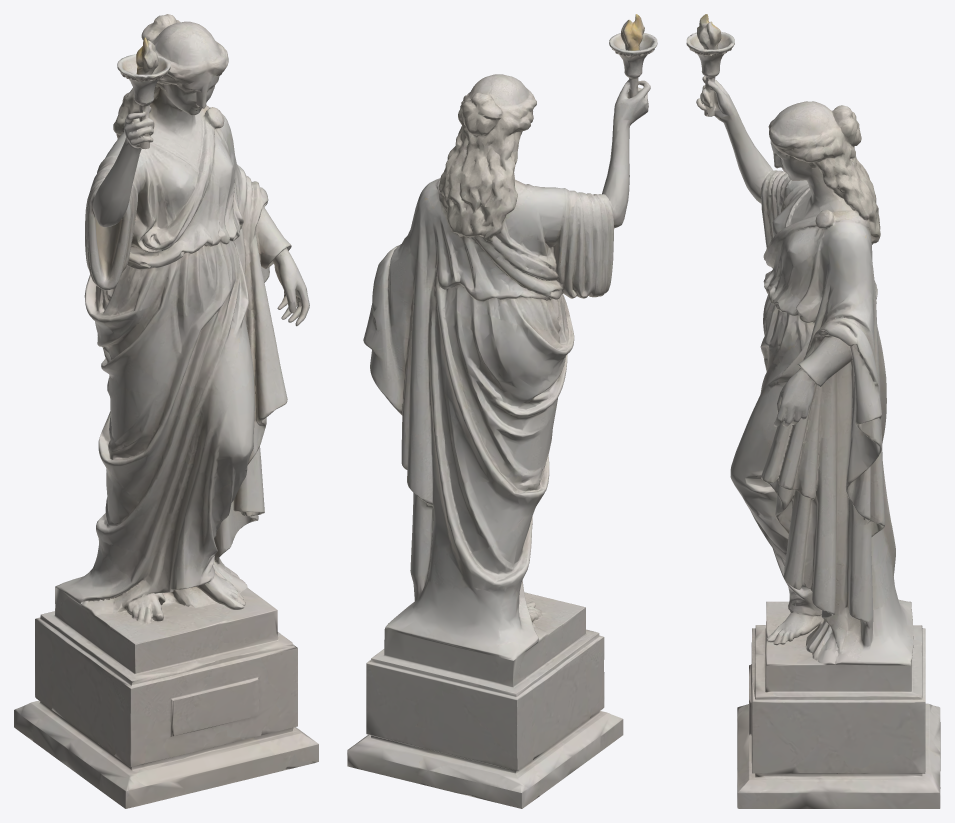
Rendered from marble-statue.glb.
The picture shows the model from 3 angles, left to right: view 1: azimuth 30°, elevation 25°; view 2: azimuth 150°, elevation 25°; view 3: azimuth 270°, elevation 25°; orthographic projection. The views are drawn at different scales.
Bounding box in the file's own units: 0.5931 × 1.9 × 0.6152.
1 material, 1 textured.
